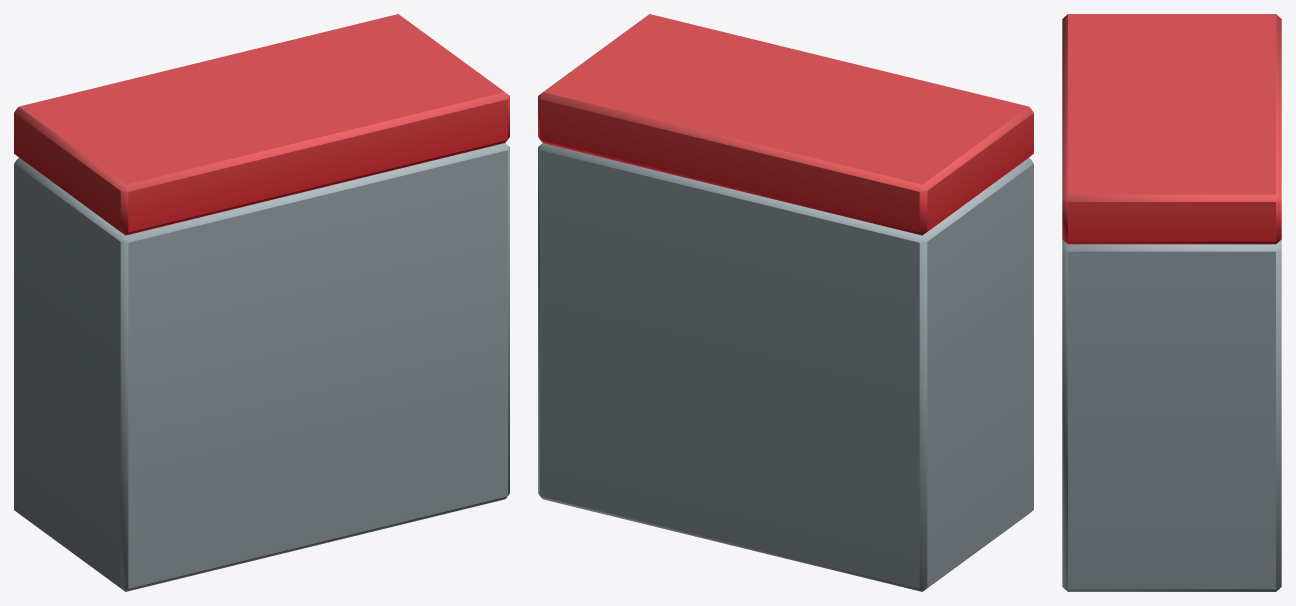
The model's file is platform_4x2x4_red.glb.
3 views of the same model, side by side, from view 1: azimuth 30°, elevation 25°; view 2: azimuth 150°, elevation 25°; view 3: azimuth 270°, elevation 25° (orthographic). The views are drawn at different scales.
Parts seen in each view (by area): view 1: platform_4x2x4_red; view 2: platform_4x2x4_red; view 3: platform_4x2x4_red.
Part boxes in pixels (x1,y1,x2,y2): platform_4x2x4_red: [14, 14, 509, 591]; platform_4x2x4_red: [538, 14, 1033, 591]; platform_4x2x4_red: [1062, 14, 1281, 591].
Bounding box in the file's own units: 4 × 4 × 2.
Materials: 1 (1 with a texture image).
